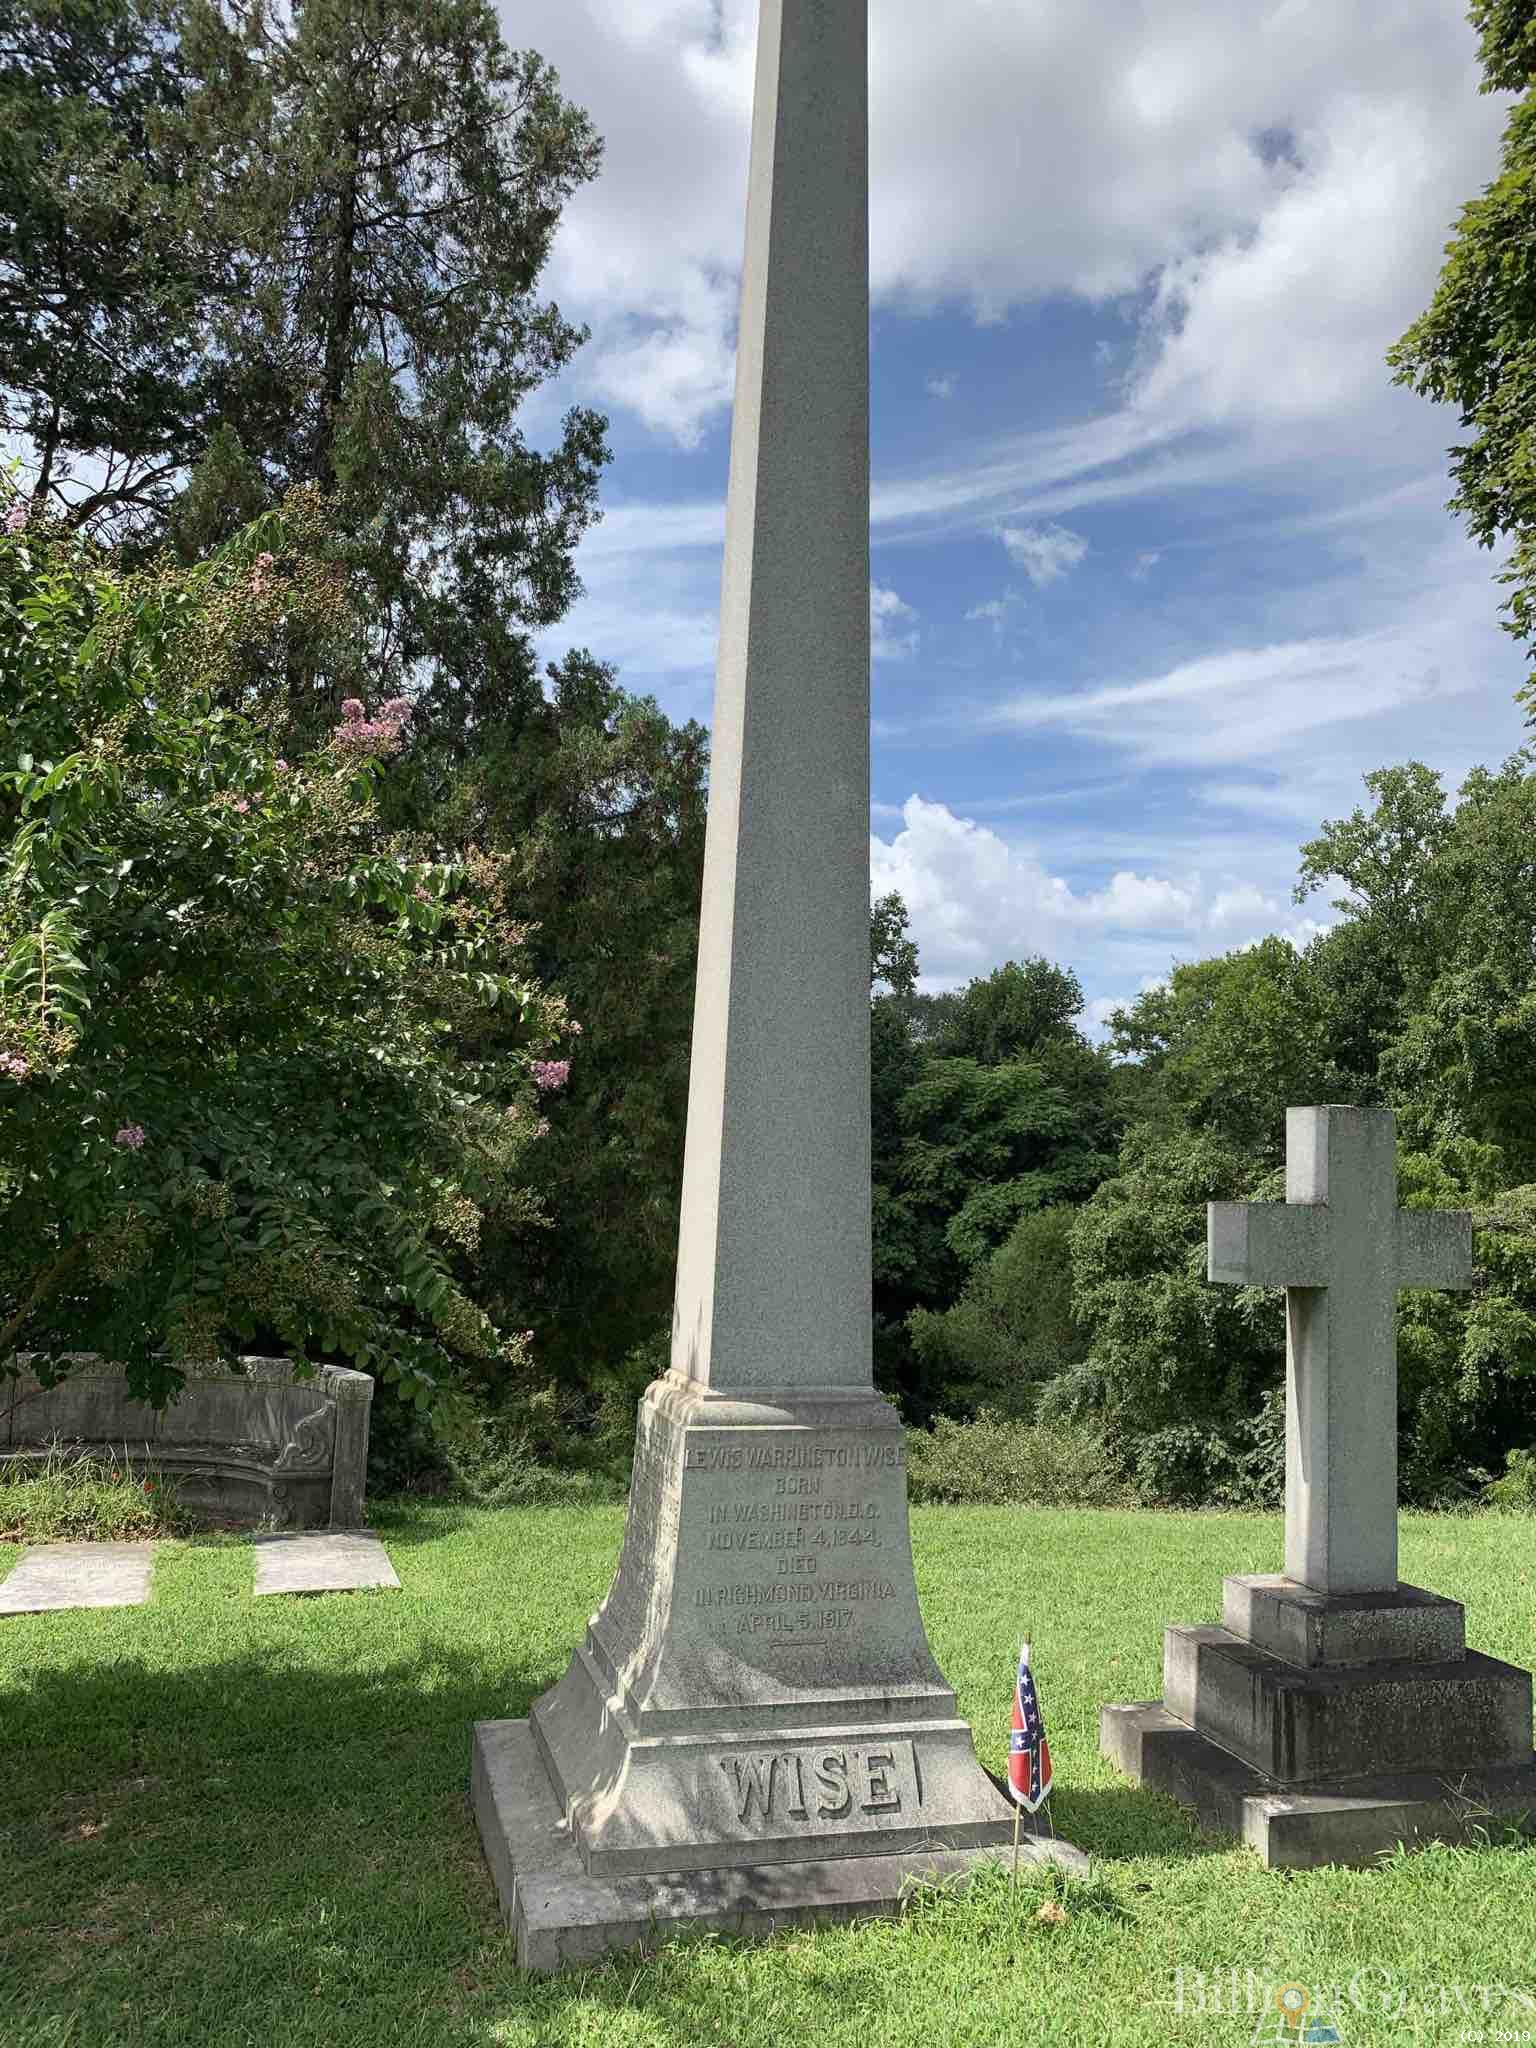obelisk: (544, 0, 1021, 1871)
